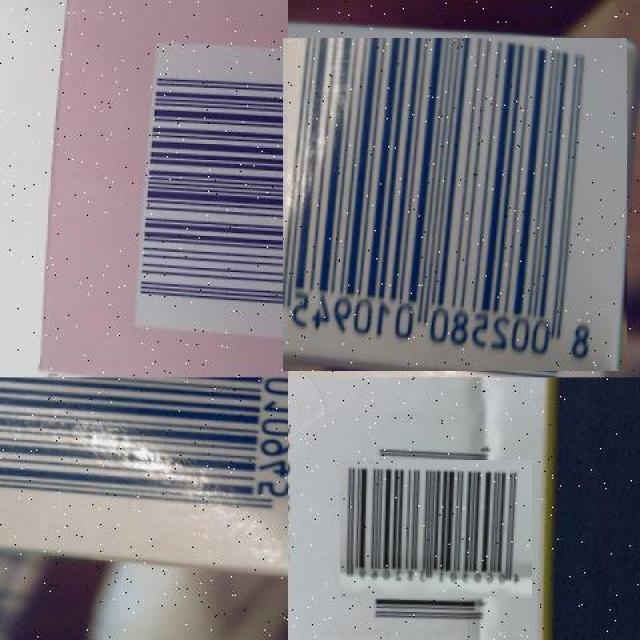Barcode: (285, 35, 624, 374), (0, 377, 288, 535), (137, 39, 288, 336), (353, 447, 519, 612)
